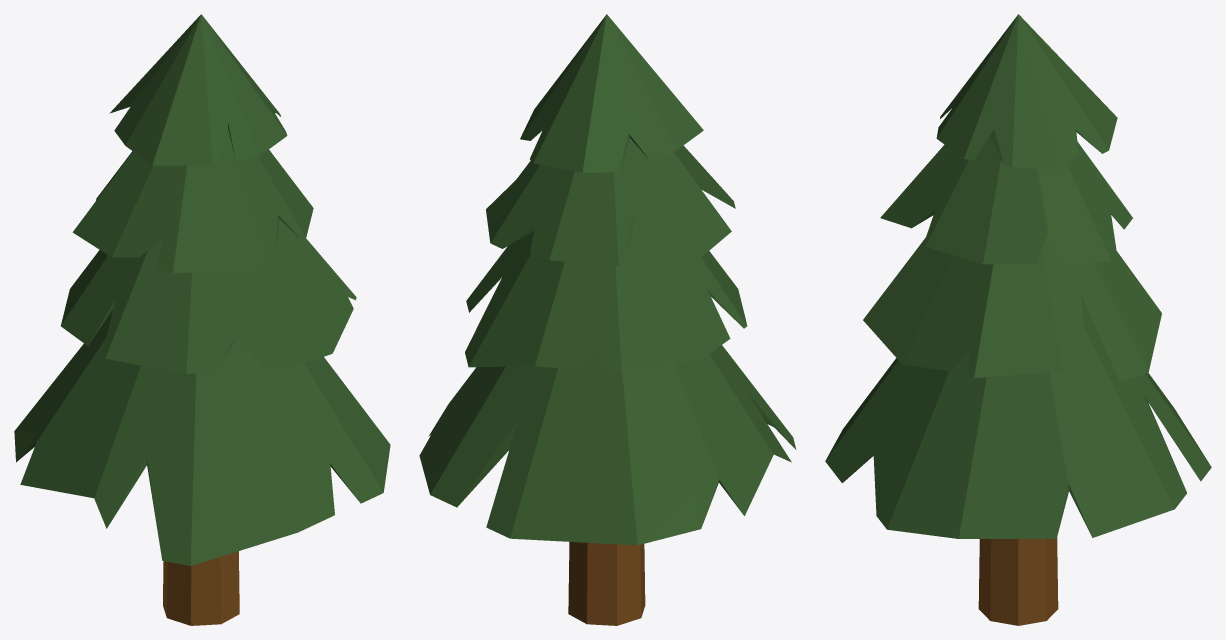
Rendered from Nadelbaum_01_unsymetric_01_rdy.fbx.
The picture shows the model from 3 angles, left to right: view 1: azimuth 30°, elevation 25°; view 2: azimuth 150°, elevation 25°; view 3: azimuth 270°, elevation 25°; orthographic projection.
Parts seen in each view (by area): view 1: Nadelbaum_01_unsymetric_01; view 2: Nadelbaum_01_unsymetric_01; view 3: Nadelbaum_01_unsymetric_01.
Boxes of the visible parts, x1,y1,x2,y2 form: Nadelbaum_01_unsymetric_01: [14, 14, 390, 625]; Nadelbaum_01_unsymetric_01: [419, 14, 796, 625]; Nadelbaum_01_unsymetric_01: [825, 14, 1211, 625].
Size of the model in its own units: 668 by 1193 by 702.
